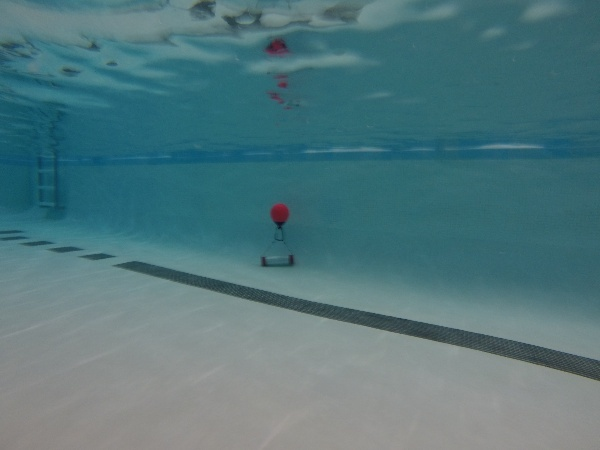buoy_red: (268, 201, 291, 230)
